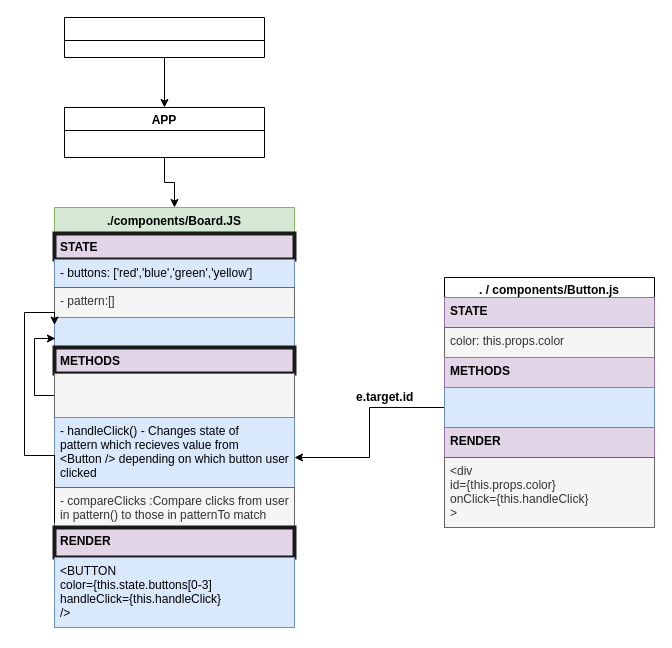
Some shapes in this 672 by 648 pixel diagram are drawn without their labels. Here are the shapes that lost their labels. From the top down, the centre of each, then its label:
At (164,37): ". / INDEX.JS".
At (174,332): "patternToMatch:[]".
At (174,395): "- addColorToPattern: picks random color and adds it to patternToMatch".
At (549,407): "- handleClick() - takes the event e.target.id and passes it to Board".
